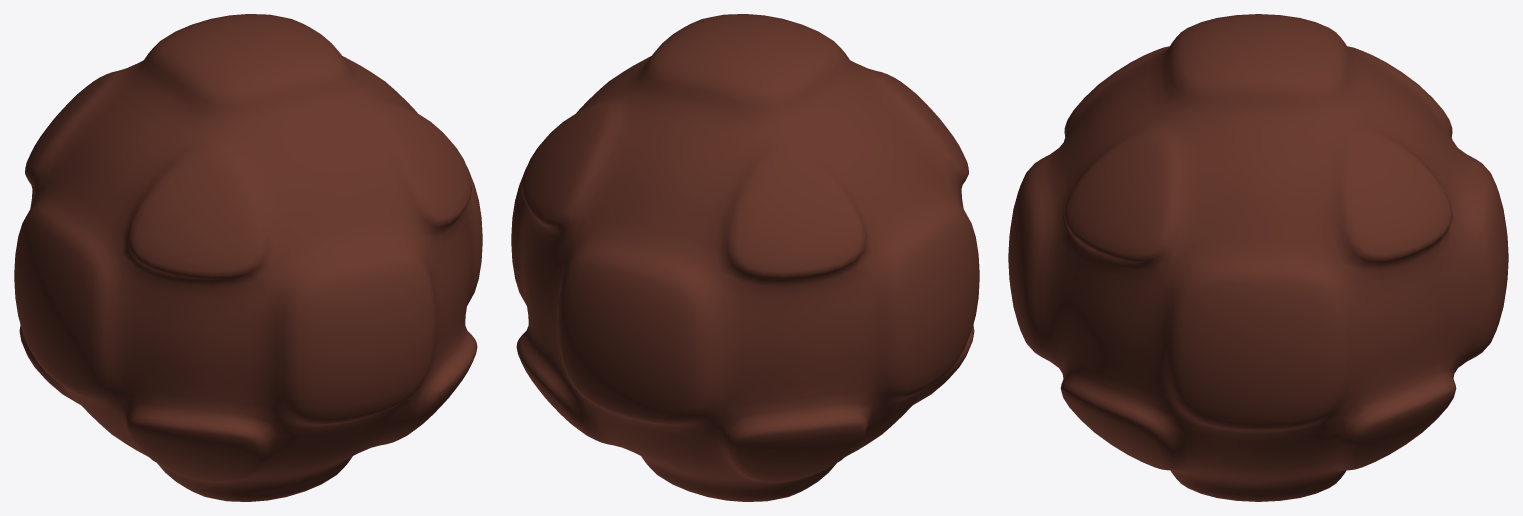
File: Planet_Meteor.fbx
The picture shows the model from 3 angles, left to right: view 1: azimuth 30°, elevation 25°; view 2: azimuth 150°, elevation 25°; view 3: azimuth 270°, elevation 25°; orthographic projection.
Parts seen in each view (by area): view 1: pCube298; view 2: pCube298; view 3: pCube298.
Boxes of the visible parts, x1,y1,x2,y2 form: pCube298: (14, 14, 482, 501); pCube298: (511, 14, 979, 501); pCube298: (1008, 14, 1508, 501).
Size of the model in its own units: 0.9301 by 0.9607 by 0.9714.
